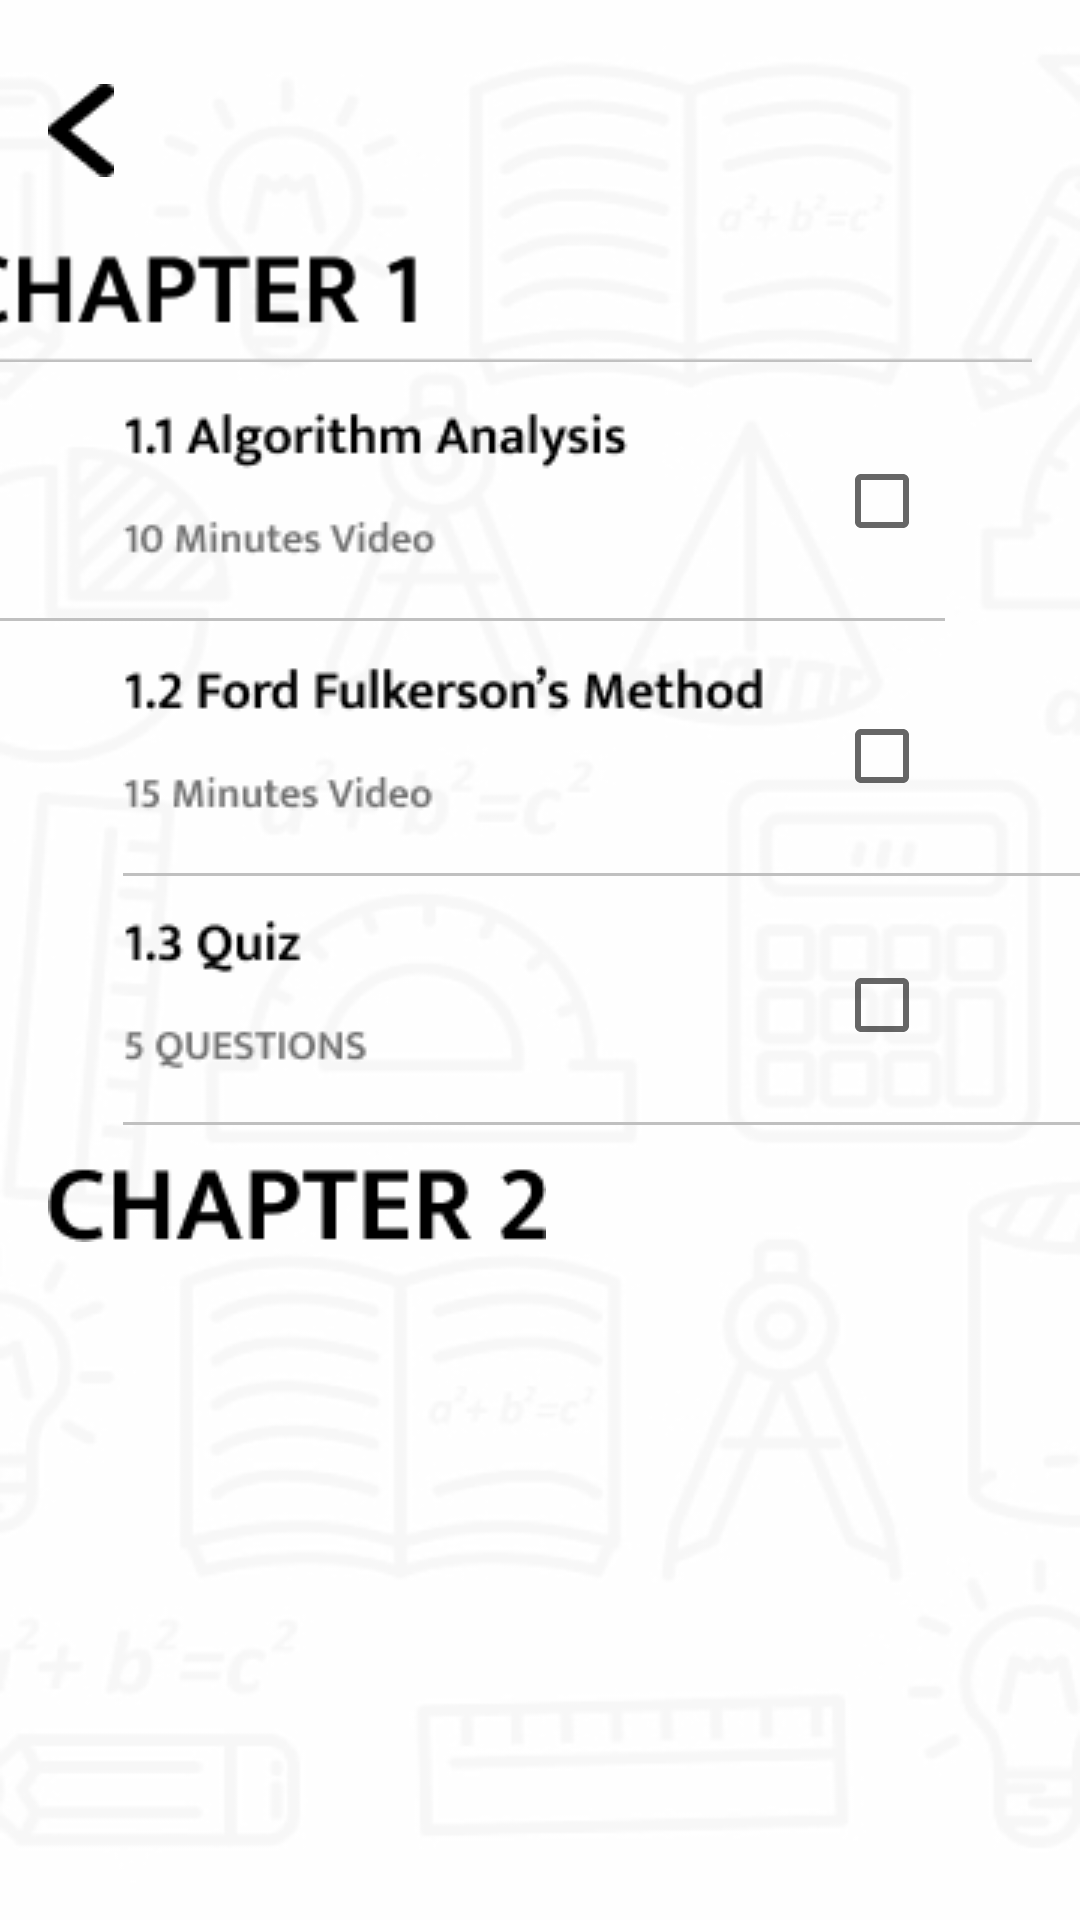

Screen size 1080px x 1920px. Icon name, then its center in pixels as [x,y]:
backbutton: [81,130]
